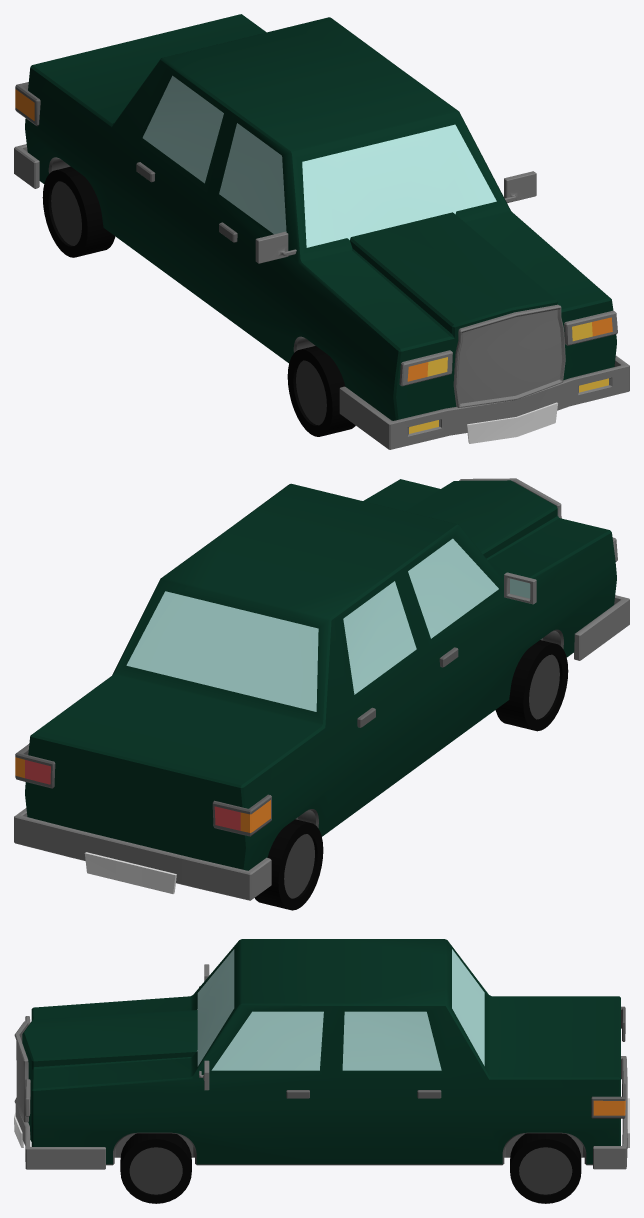
The model's file is gBart.fbx.
3 renders of one model, top to bottom at view 1: azimuth 30°, elevation 25°; view 2: azimuth 150°, elevation 25°; view 3: azimuth 270°, elevation 25°, orthographic. The views are drawn at different scales.
Visible parts, largest first — view 1: GreenRanger; view 2: GreenRanger; view 3: GreenRanger.
Boxes of the visible parts, x1,y1,x2,y2 form: GreenRanger: [14, 14, 629, 449]; GreenRanger: [14, 478, 629, 910]; GreenRanger: [14, 939, 629, 1203].
Size of the model in its own units: 264 by 213 by 636.
